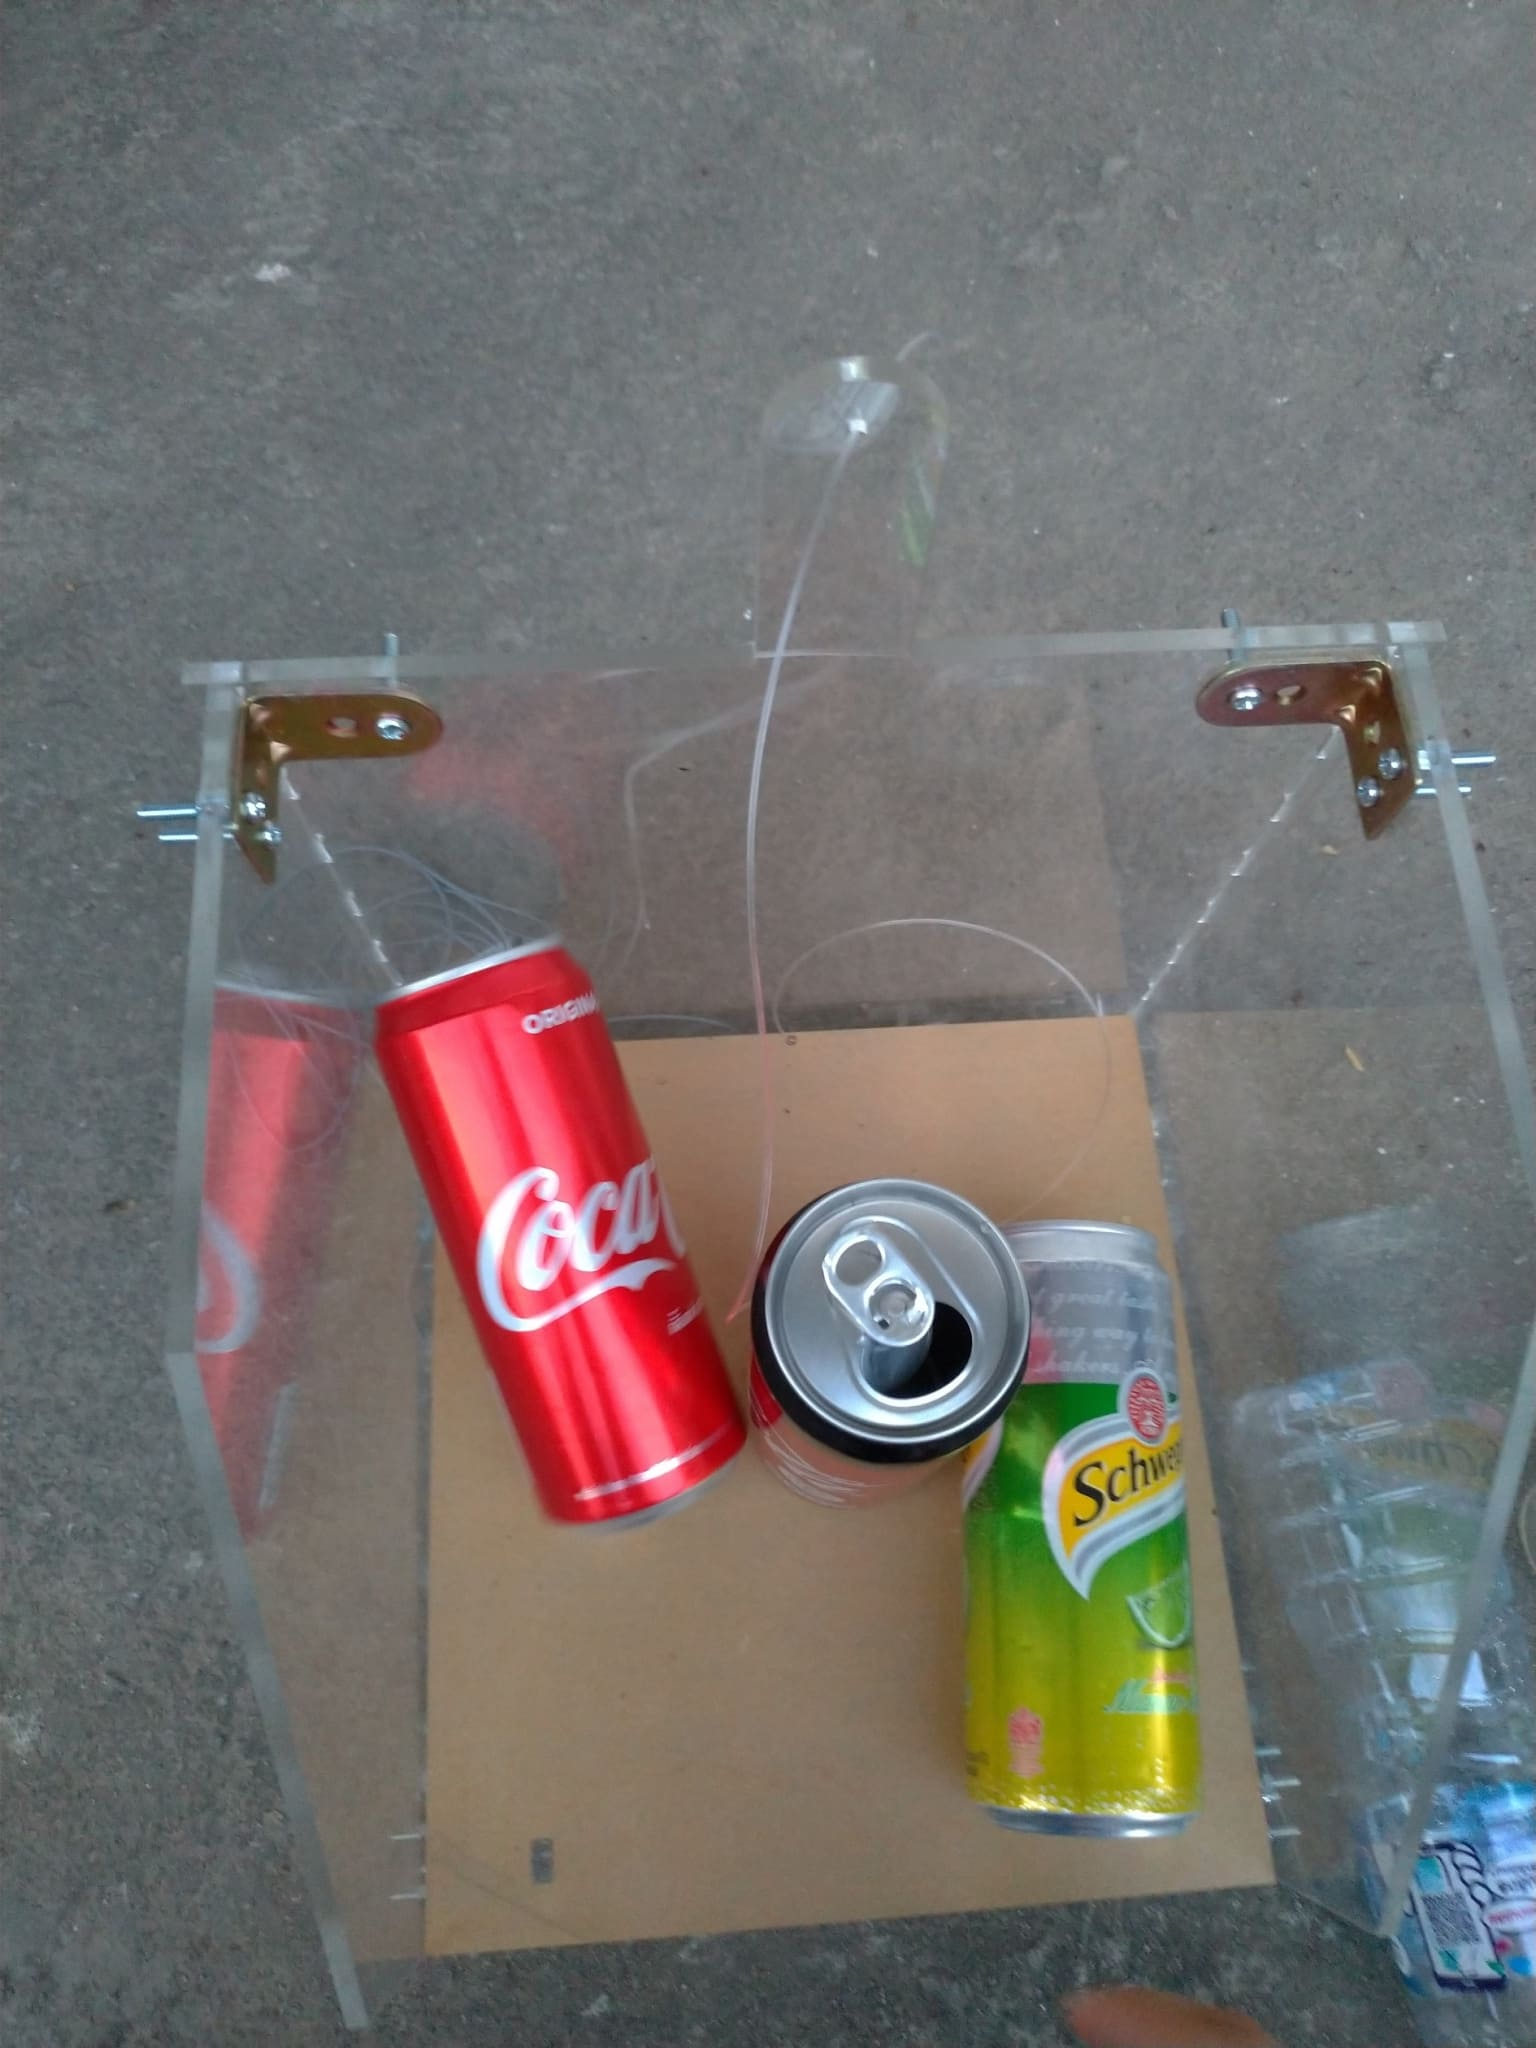AlCan: (373, 934, 747, 1542), (957, 1214, 1207, 1848), (744, 1177, 1033, 1517)
PlasticBottle: (1221, 1351, 1533, 2033)
